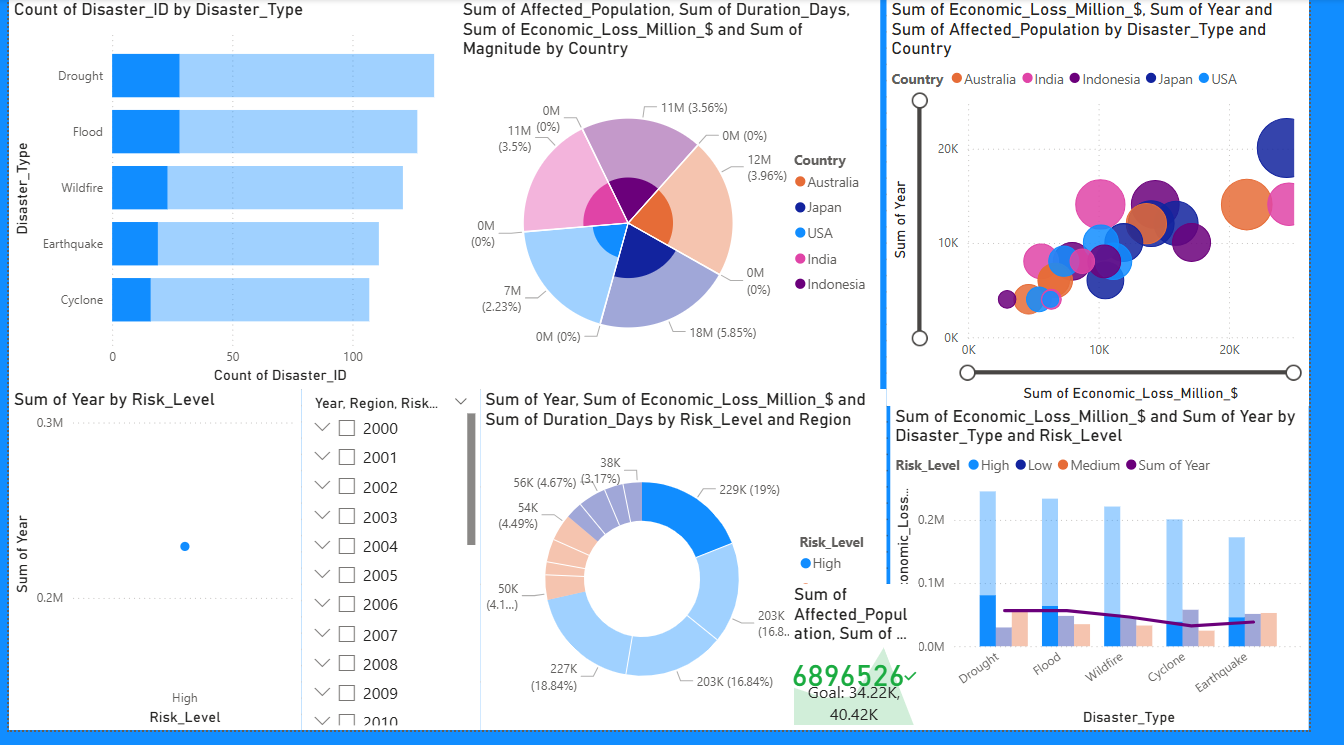

The page's visual inventory and layout, read from the dashboard file:
{"tool":"powerbi","page":{"name":"Natural Disaster PowerBi Main Project Data Analysis and Predictions","canvas":[1280,720],"ordinal":0},"visuals":[{"type":"barChart","fields":{"Y":["CountNonNull(Natural_disaster Prediction of Data Analysis.Disaster_ID)"],"Category":["Natural_disaster Prediction of Data Analysis.Disaster_Type"]},"box":[16,0,416,384],"z":0},{"type":"lineChart","fields":{"Y":["Sum(Natural_disaster Prediction of Data Analysis.Year)"],"Category":["Natural_disaster Prediction of Data Analysis.Risk_Level"]},"box":[48,400,240,320],"z":1000},{"type":"pieChart","fields":{"Y":["Sum(Natural_disaster Prediction of Data Analysis.Affected_Population)","Sum(Natural_disaster Prediction of Data Analysis.Duration_Days)","Sum(Natural_disaster Prediction of Data Analysis.Economic_Loss_Million_$)","Sum(Natural_disaster Prediction of Data Analysis.Magnitude)"],"Category":["Natural_disaster Prediction of Data Analysis.Country","Natural_disaster Prediction of Data Analysis.Region"]},"box":[442,0,416,384],"z":2000},{"type":"donutChart","fields":{"Category":["Natural_disaster Prediction of Data Analysis.Risk_Level","Natural_disaster Prediction of Data Analysis.Country","Natural_disaster Prediction of Data Analysis.Disaster_Type"],"Y":["Sum(Natural_disaster Prediction of Data Analysis.Year)"],"Series":["Natural_disaster Prediction of Data Analysis.Region"]},"box":[464,400,394,320],"z":3000},{"type":"scatterChart","fields":{"X":["Sum(Natural_disaster Prediction of Data Analysis.Economic_Loss_Million_$)"],"Y":["Sum(Natural_disaster Prediction of Data Analysis.Year)"],"Category":["Natural_disaster Prediction of Data Analysis.Disaster_Type"],"Series":["Natural_disaster Prediction of Data Analysis.Country"],"Size":["Sum(Natural_disaster Prediction of Data Analysis.Affected_Population)"]},"box":[868,0,412,384],"z":4000},{"type":"lineClusteredColumnComboChart","fields":{"Category":["Natural_disaster Prediction of Data Analysis.Disaster_Type"],"Y":["Sum(Natural_disaster Prediction of Data Analysis.Economic_Loss_Million_$)"],"Series":["Natural_disaster Prediction of Data Analysis.Risk_Level"],"Y2":["Sum(Natural_disaster Prediction of Data Analysis.Year)"]},"box":[868,400,412,320],"z":5000},{"type":"slicer","fields":{"Values":["Natural_disaster Prediction of Data Analysis.Year","Natural_disaster Prediction of Data Analysis.Region","Natural_disaster Prediction of Data Analysis.Risk_Level","Natural_disaster Prediction of Data Analysis.Disaster_Type"]},"box":[288,416,176,304],"z":6000},{"type":"kpi","fields":{"Indicator":["Sum(Natural_disaster Prediction of Data Analysis.Affected_Population)"],"TrendLine":["Natural_disaster Prediction of Data Analysis.Country"],"Goal":["Sum(Natural_disaster Prediction of Data Analysis.Year)","Sum(Natural_disaster Prediction of Data Analysis.Economic_Loss_Million_$)"]},"box":[768,576,128,144],"z":7000}]}

Visuals, with their boxes in screenshot pixels (x1, y1, x2, y2), scaled from the page's 1280x720 canvas onto the 1344x745 screenshot:
barChart - CountNonNull(Natural_disaster Prediction of Data Analysis.Disaster_ID) x Natural_disaster Prediction of Data Analysis.Disaster_Type: [x1=17, y1=0, x2=454, y2=397]
lineChart - Sum(Natural_disaster Prediction of Data Analysis.Year) x Natural_disaster Prediction of Data Analysis.Risk_Level: [x1=50, y1=414, x2=302, y2=744]
pieChart - Sum(Natural_disaster Prediction of Data Analysis.Affected_Population) x Sum(Natural_disaster Prediction of Data Analysis.Duration_Days): [x1=464, y1=0, x2=901, y2=397]
donutChart - Natural_disaster Prediction of Data Analysis.Risk_Level x Natural_disaster Prediction of Data Analysis.Country: [x1=487, y1=414, x2=901, y2=744]
scatterChart - Sum(Natural_disaster Prediction of Data Analysis.Economic_Loss_Million_$) x Sum(Natural_disaster Prediction of Data Analysis.Year): [x1=911, y1=0, x2=1343, y2=397]
lineClusteredColumnComboChart - Natural_disaster Prediction of Data Analysis.Disaster_Type x Sum(Natural_disaster Prediction of Data Analysis.Economic_Loss_Million_$): [x1=911, y1=414, x2=1343, y2=744]
slicer - Natural_disaster Prediction of Data Analysis.Year x Natural_disaster Prediction of Data Analysis.Region: [x1=302, y1=430, x2=487, y2=744]
kpi - Sum(Natural_disaster Prediction of Data Analysis.Affected_Population) x Natural_disaster Prediction of Data Analysis.Country: [x1=806, y1=596, x2=941, y2=744]
